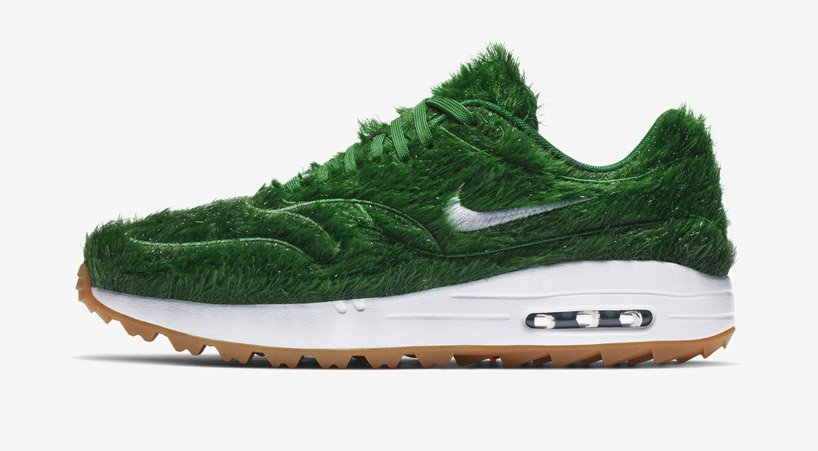nike: (437, 177, 593, 232)
